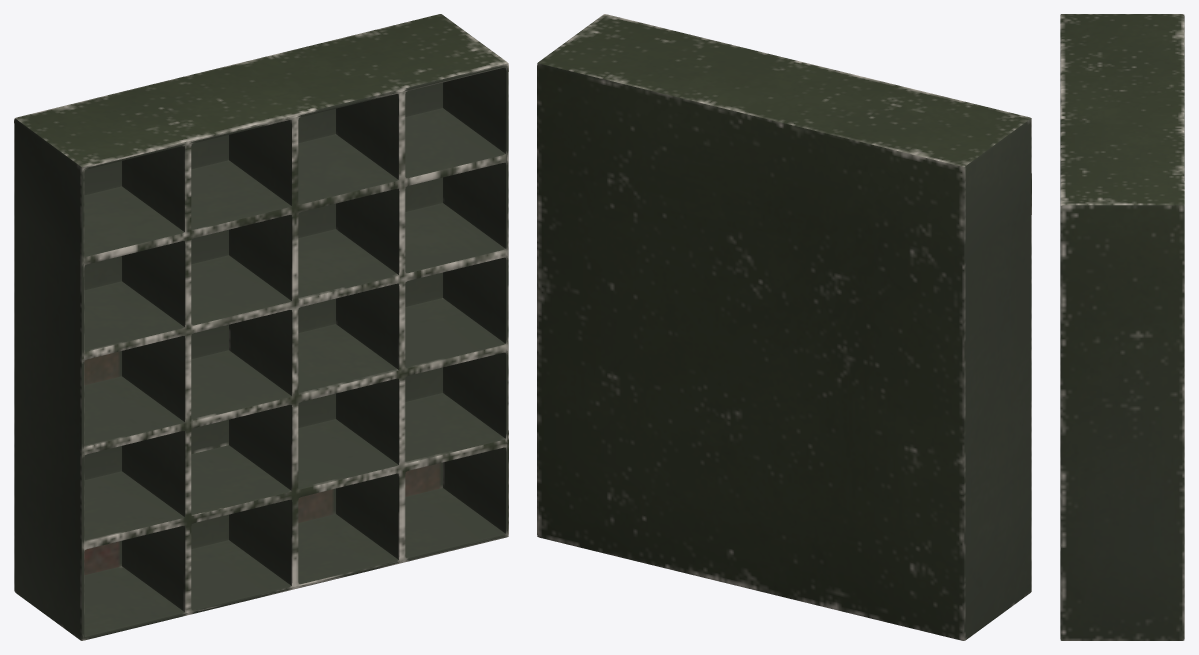
File: Armario_3_Adm_CENA.fbx
The picture shows the model from 3 angles, left to right: view 1: azimuth 30°, elevation 25°; view 2: azimuth 150°, elevation 25°; view 3: azimuth 270°, elevation 25°; orthographic projection. The views are drawn at different scales.
Visible parts, largest first — view 1: Cube.091; view 2: Cube.091; view 3: Cube.091.
Boxes of the visible parts, bbox=[...] form: Cube.091: bbox=[14, 14, 508, 640]; Cube.091: bbox=[537, 14, 1031, 640]; Cube.091: bbox=[1060, 14, 1184, 640].
Size of the model in its own units: 200 by 212 by 54.89.
